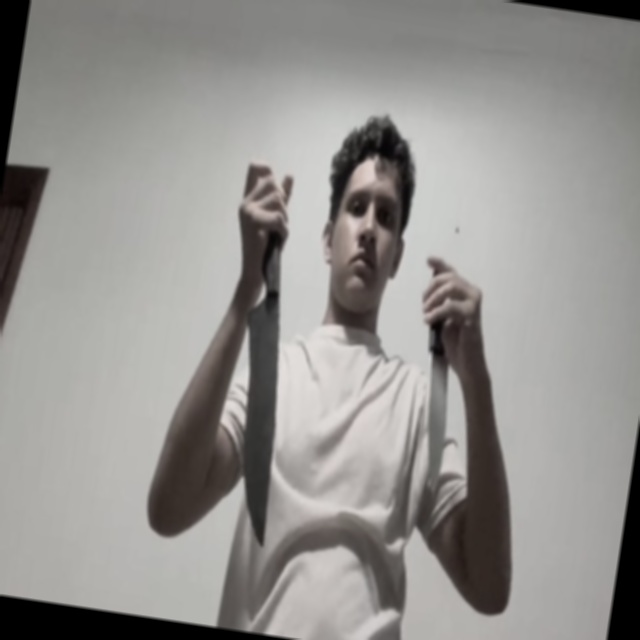Sharp-Object: (214, 296, 299, 545), (410, 352, 458, 496)
